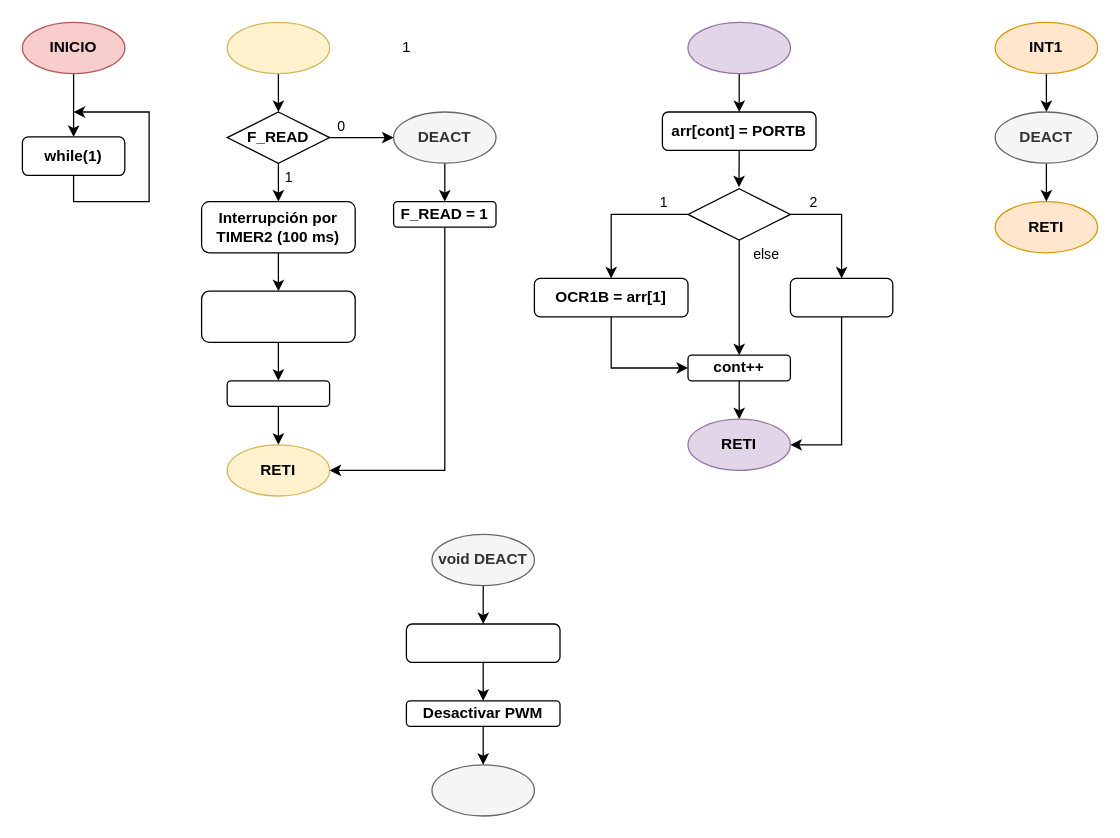
This 1120x838 diagram has some shape labels left out. The centre of each missing label's shape, as x and y in pixels:
"cont" goes at pixel 738 214.
"cont = 0" goes at pixel 841 297.
"Desactivar TIMER2" goes at pixel 482 642.
"F_READ = 0" goes at pixel 278 393.
"INT0" goes at pixel 278 47.
"PWM TIMER 1 (10 Hz, OCR1B = 0)" goes at pixel 277 316.
"RET" goes at pixel 482 790.
"TIMER2" goes at pixel 738 47.
